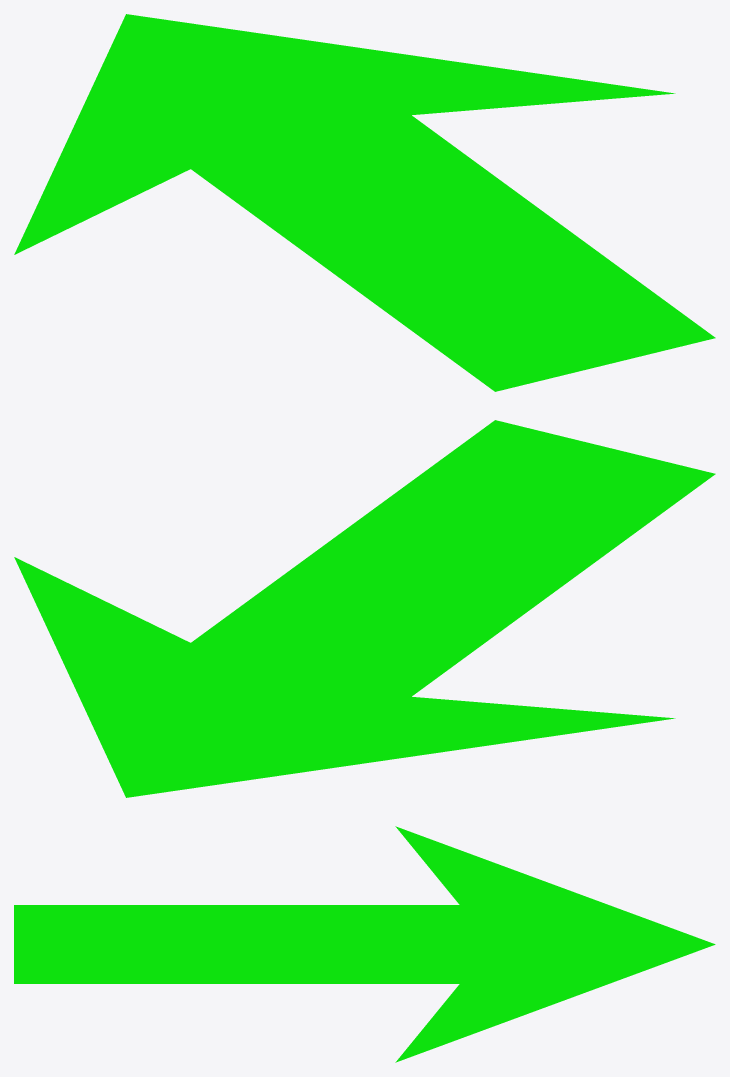
The model's file is start_direction.glb.
3 renders of one model, top to bottom at view 1: azimuth 30°, elevation 25°; view 2: azimuth 150°, elevation 25°; view 3: azimuth 270°, elevation 25°, orthographic. The views are drawn at different scales.
Visible parts, largest first — view 1: 0; view 2: 0; view 3: 0.
Part boxes in pixels (<box>): 0: <box>14,14,715,391</box>; 0: <box>14,420,715,797</box>; 0: <box>14,826,715,1062</box>.
Bounding box in the file's own units: 0.6 × 1.67e-16 × 0.7523.
